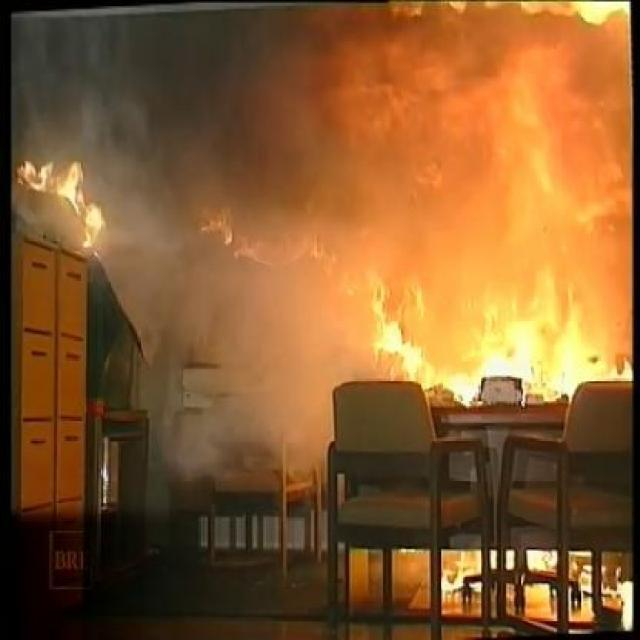fire: (358, 254, 590, 374), (18, 160, 114, 245)
smoke: (28, 32, 174, 154), (142, 246, 236, 414)
